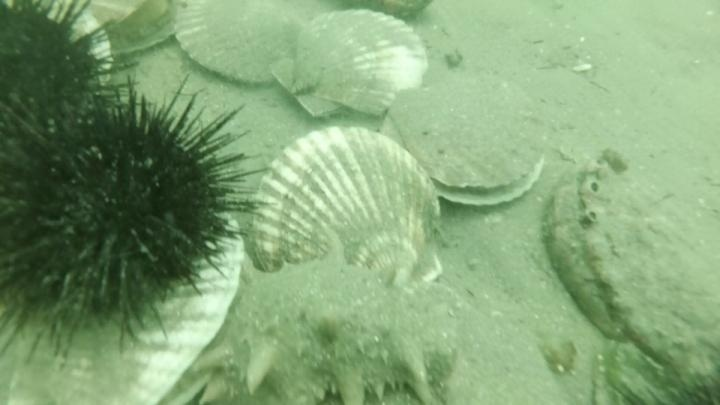echinus: (1, 71, 267, 363), (1, 1, 122, 149), (597, 324, 720, 404)
holothurian: (165, 248, 519, 405)
scallop: (245, 125, 447, 289), (378, 72, 552, 212), (267, 6, 433, 125), (169, 1, 311, 92), (76, 1, 182, 62)
